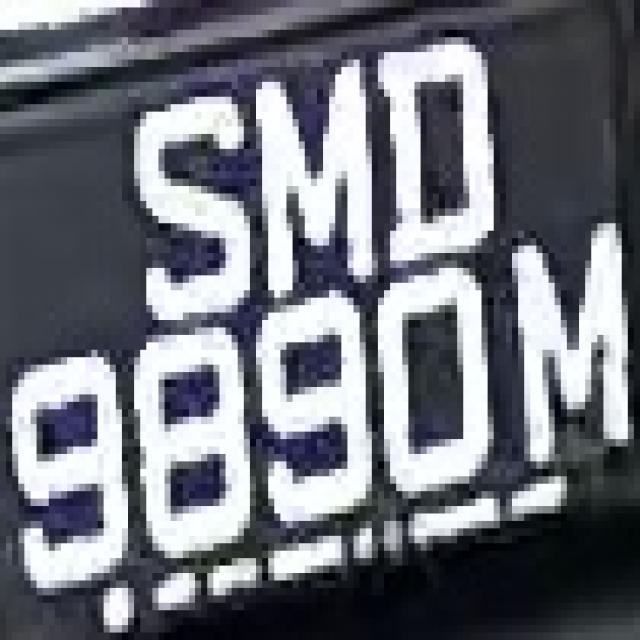0: (372, 261, 494, 506)
8: (122, 327, 262, 588)
9: (6, 327, 134, 588), (250, 298, 378, 543)
D: (366, 8, 494, 260)
M: (481, 216, 628, 476), (232, 67, 390, 298)
S: (128, 67, 256, 327)
